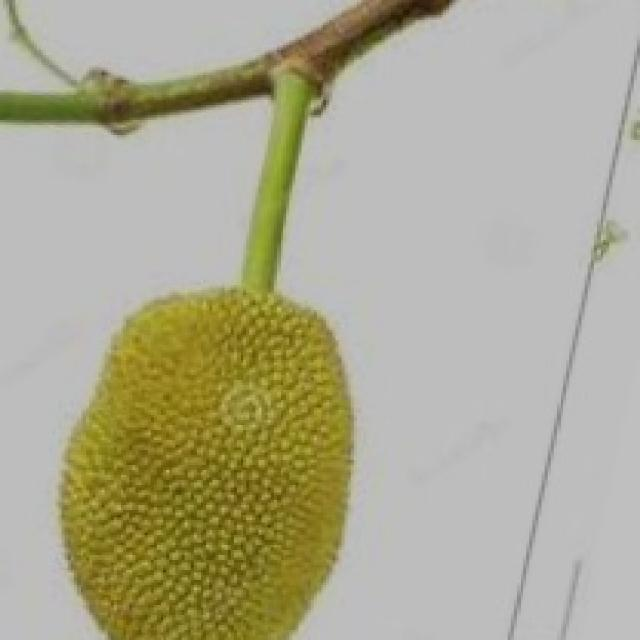Fruit: (24, 265, 382, 640)
